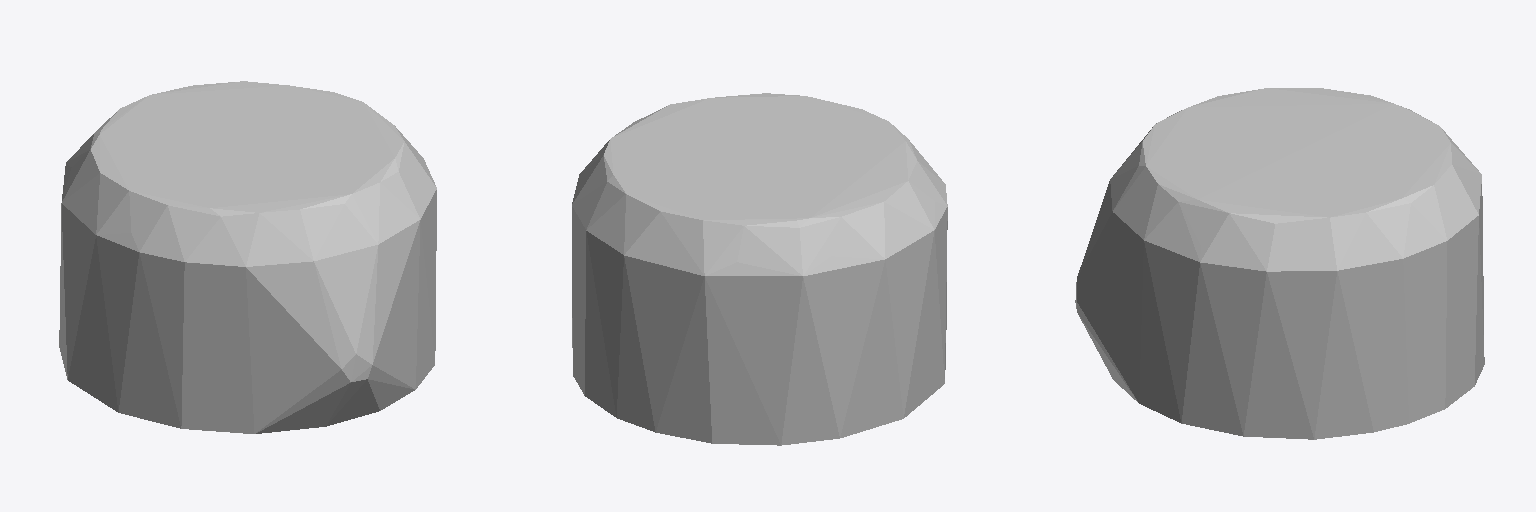
Rendered from wrist_3_link_collisions_wrist3_mesh.obj.
3 views of the same model, side by side, from view 1: azimuth 30°, elevation 25°; view 2: azimuth 150°, elevation 25°; view 3: azimuth 270°, elevation 25° (orthographic).
Size of the model in its own units: 0.0751 by 0.0458 by 0.0816.